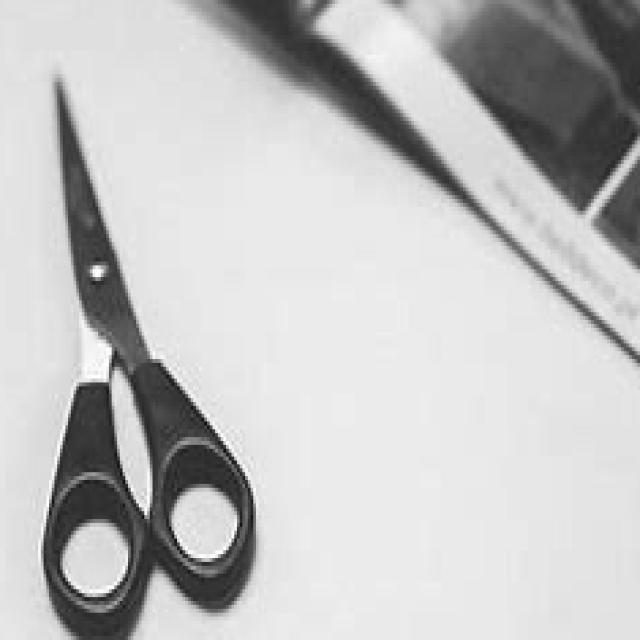tesoura: (43, 82, 255, 639)
